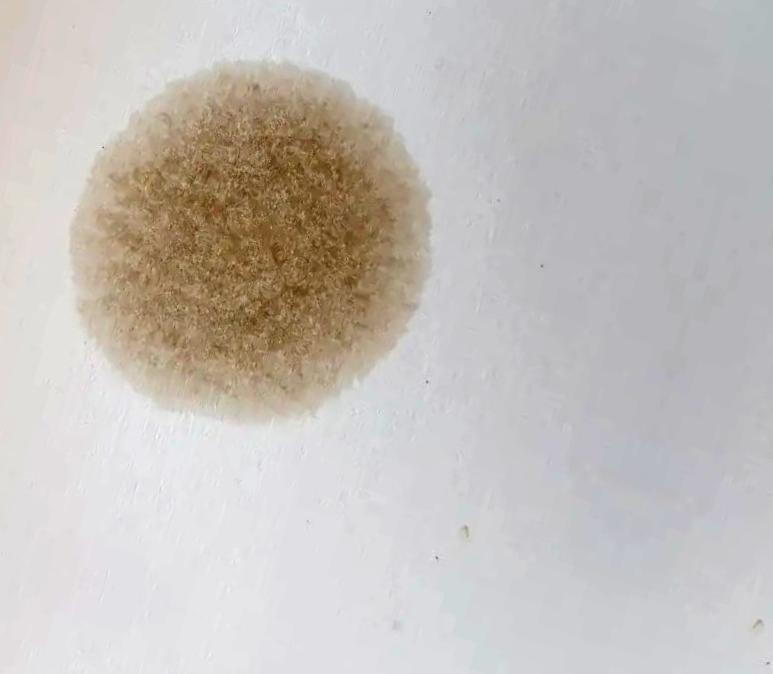stain: (66, 54, 448, 439)
